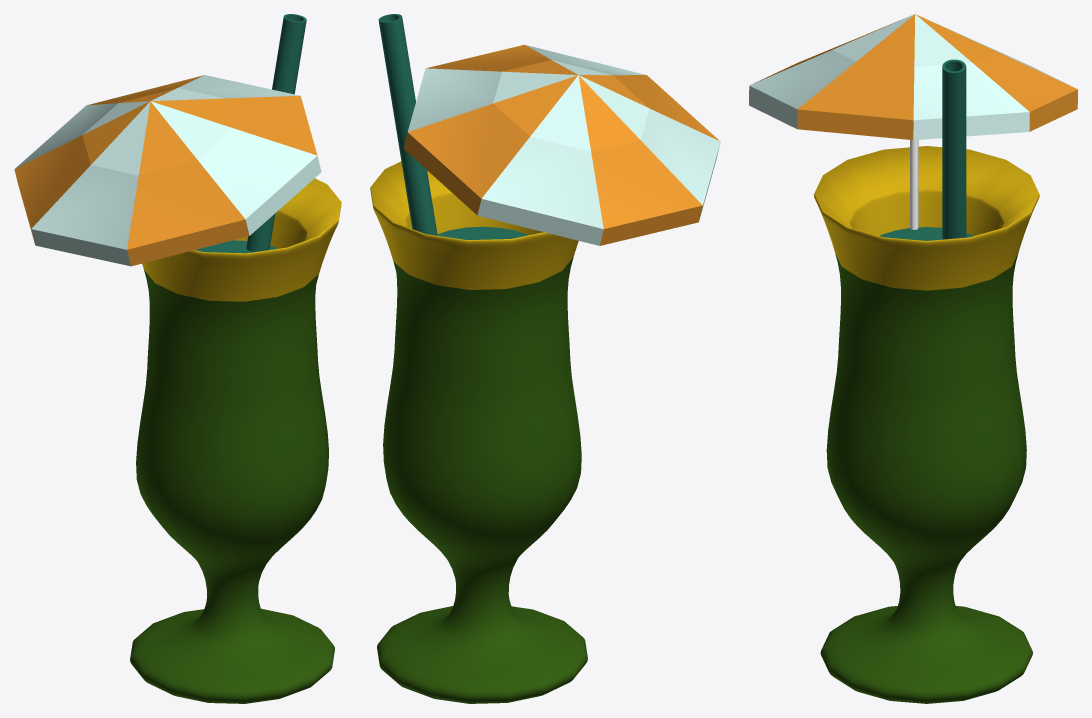
File: Coctail_whight_2_glass.FBX
3 views of the same model, side by side, from view 1: azimuth 30°, elevation 25°; view 2: azimuth 150°, elevation 25°; view 3: azimuth 270°, elevation 25° (orthographic). The views are drawn at different scales.
Visible parts, largest first — view 1: Line001, Cone, Tube001, Cylinder001; view 2: Line001, Cone, Tube001, Cylinder001; view 3: Line001, Cone, Tube001, Cylinder001 (×2).
Part boxes in pixels (<box>): Line001: <box>130,178,341,703</box>; Cone: <box>14,75,321,266</box>; Tube001: <box>246,14,306,252</box>; Cylinder001: <box>195,240,277,253</box>; Line001: <box>370,161,587,703</box>; Cone: <box>403,44,720,245</box>; Tube001: <box>378,14,437,235</box>; Cylinder001: <box>437,226,528,239</box>; Line001: <box>814,146,1039,703</box>; Cone: <box>749,14,1077,140</box>; Tube001: <box>942,59,966,239</box>; Cylinder001 (×2): <box>880,140,973,240</box>.
Bounding box in the file's own units: 56.59 × 112 × 51.78.
